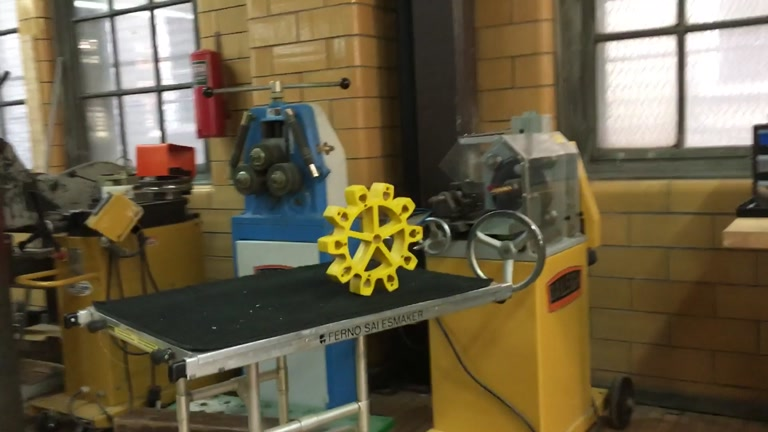gear: (317, 184, 422, 297)
